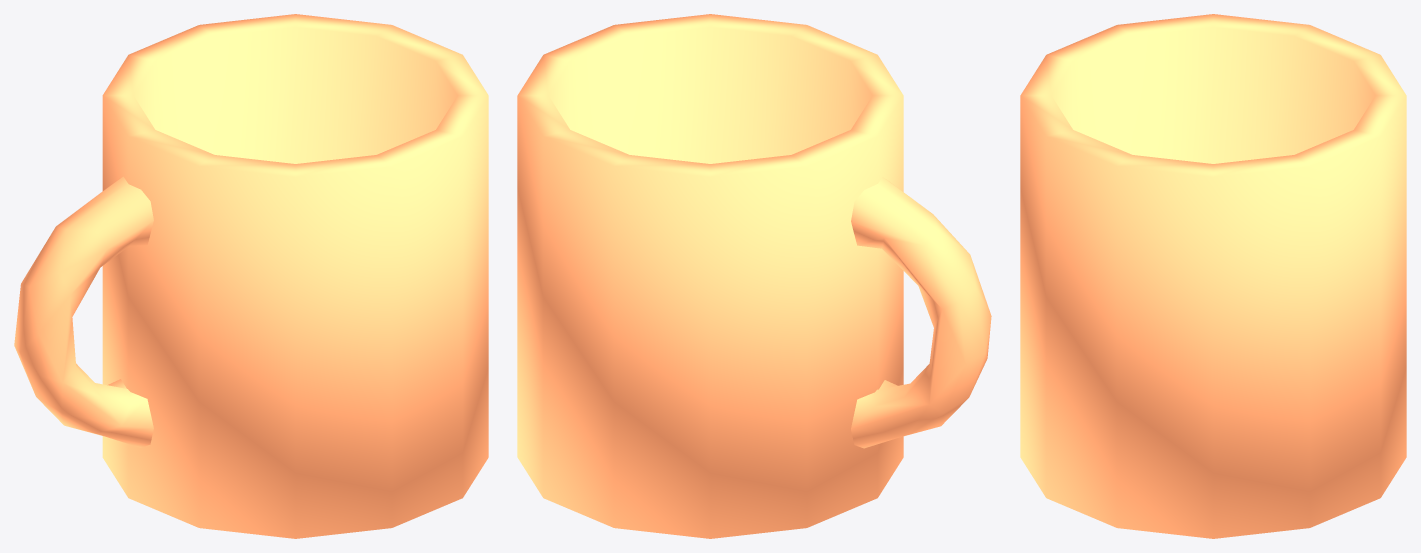
The model's file is brown_cup.glb.
3 views of the same model, side by side, from view 1: azimuth 30°, elevation 25°; view 2: azimuth 150°, elevation 25°; view 3: azimuth 270°, elevation 25° (orthographic).
Parts seen in each view (by area): view 1: Brown_Cup; view 2: Brown_Cup; view 3: Brown_Cup.
Boxes of the visible parts, x1,y1,x2,y2 form: Brown_Cup: (14,14,488,538); Brown_Cup: (517,14,991,538); Brown_Cup: (1020,14,1406,538).
Size of the model in its own units: 0.4034 by 0.3152 by 0.3051.
